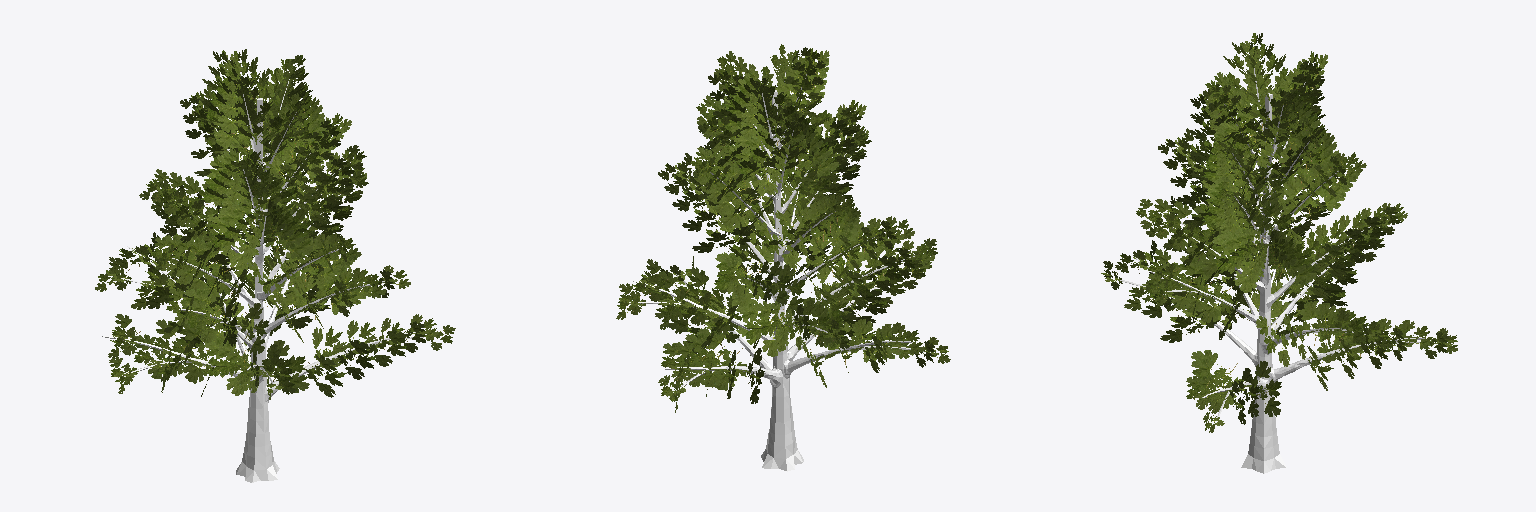
3 renders of one model, left to right at view 1: azimuth 30°, elevation 25°; view 2: azimuth 150°, elevation 25°; view 3: azimuth 270°, elevation 25°, orthographic.
Visible parts, largest first — view 1: tree; view 2: tree; view 3: tree.
Boxes of the visible parts, box(x1,y1,x2,y2) form: tree: box(95, 49, 455, 482); tree: box(616, 44, 950, 471); tree: box(1101, 33, 1457, 473).
Bounding box in the file's own units: 161 × 198 × 155.
2 materials, 1 textured.